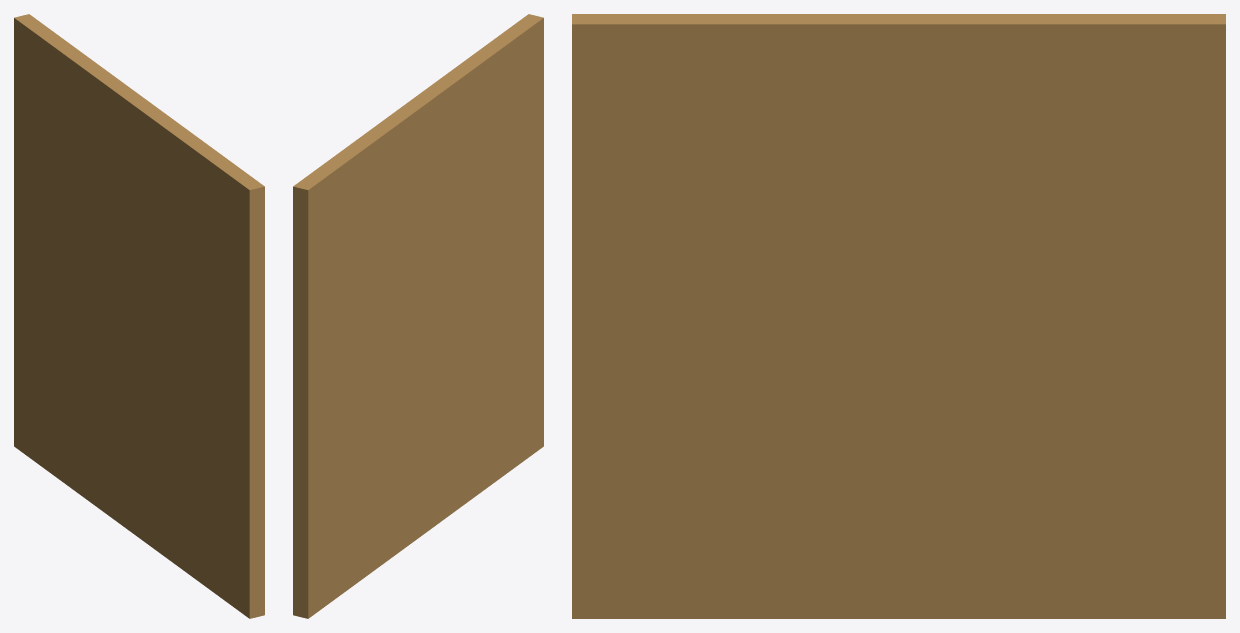
The picture shows the model from 3 angles, left to right: view 1: azimuth 30°, elevation 25°; view 2: azimuth 150°, elevation 25°; view 3: azimuth 270°, elevation 25°; orthographic projection. The views are drawn at different scales.
Parts seen in each view (by area): view 1: FF-W212; view 2: FF-W212; view 3: FF-W212.
Part boxes in pixels (x1=…): FF-W212: x1=14, y1=14, x2=264, y2=618; FF-W212: x1=293, y1=14, x2=543, y2=618; FF-W212: x1=572, y1=14, x2=1225, y2=618.
Size of the model in its own units: 0.09 by 2.42 by 2.41.
